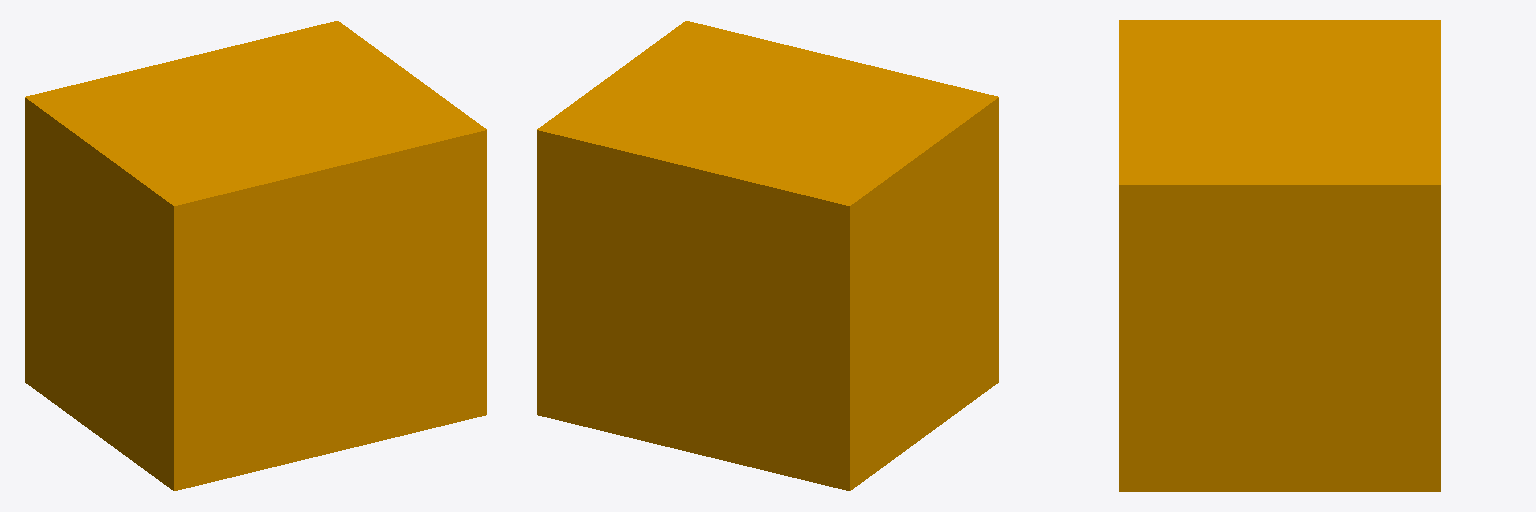
robot.urdf — object:
<robot name="object">
  <link name="object">
    <visual>
      <origin xyz="0 0 0" />
      <geometry>
        <box size="0.09200000000000003 0.07600000000000001 0.08" />
      </geometry>
    </visual>

    <collision>
      <origin xyz="0 0 0" />
      <geometry>
        <box size="0.09200000000000003 0.07600000000000001 0.08" />
      </geometry>
    </collision>

    <inertial>
      <mass value="0.05" />
      <inertia ixx="0.0001" ixy="0.0" ixz="0.0" iyy="0.0001" iyz="0.0" izz="0.0001" />
    </inertial>
  </link>
</robot>

--- What the picture shows (computed from the rendered views, not written in the file) ---
3 views of the same robot in one strip: view 1: azimuth 30°, elevation 25°; view 2: azimuth 150°, elevation 25°; view 3: azimuth 270°, elevation 25° (orthographic).
Model object with 1 links and 0 joints (none), rooted at object, posed every joint at zero.
Visible links, largest first — view 1: object; view 2: object; view 3: object.
Boxes of the visible links, x1=… form: object: x1=25, y1=21, x2=486, y2=490; object: x1=537, y1=21, x2=998, y2=490; object: x1=1119, y1=20, x2=1440, y2=491.
Bounding box of the posed robot: 0.092 × 0.076 × 0.08 m (x, y, z).
Geometry: primitives only (box / cylinder / sphere), no mesh files.